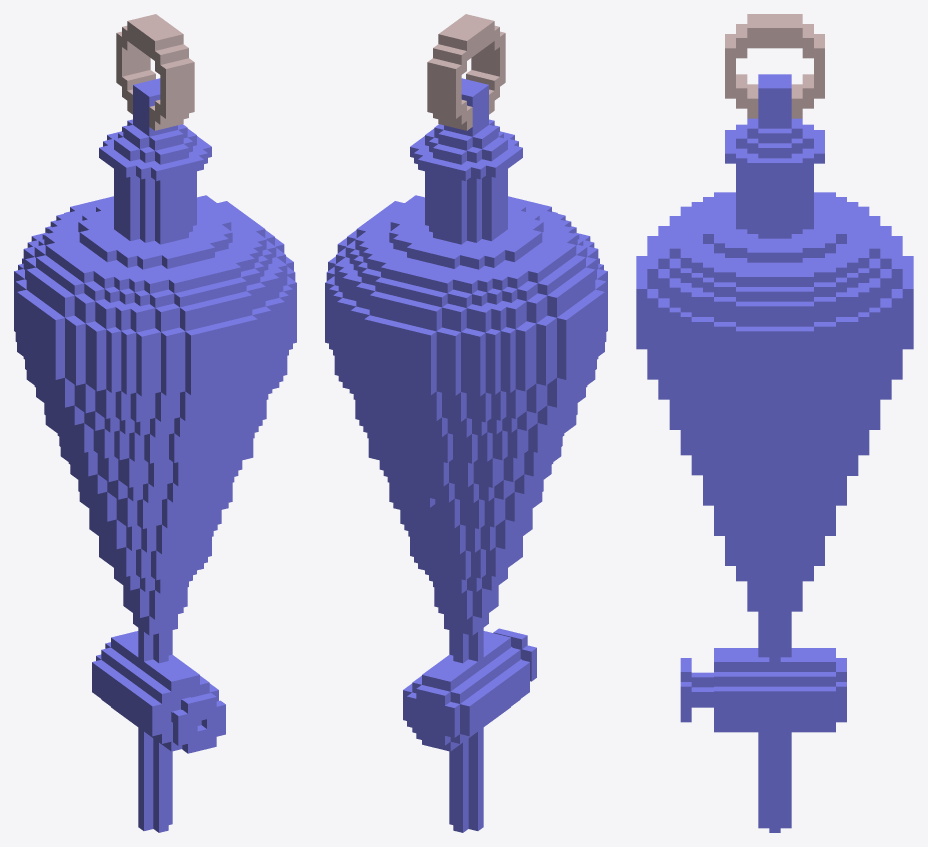
The model's file is Flask8-4-1.fbx.
3 renders of one model, left to right at view 1: azimuth 30°, elevation 25°; view 2: azimuth 150°, elevation 25°; view 3: azimuth 270°, elevation 25°, orthographic.
Parts seen in each view (by area): view 1: Flask8-4-1.001, Flask8-4-1.002, Flask8-4-1.003, Flask8-4-1.004; view 2: Flask8-4-1.001, Flask8-4-1.002, Flask8-4-1.003, Flask8-4-1.004; view 3: Flask8-4-1.001, Flask8-4-1.002, Flask8-4-1.003, Flask8-4-1.004.
Boxes of the visible parts, <box> form: Flask8-4-1.001: <box>14,14,296,366</box>; Flask8-4-1.002: <box>14,301,296,663</box>; Flask8-4-1.003: <box>97,636,225,832</box>; Flask8-4-1.004: <box>92,631,138,710</box>; Flask8-4-1.001: <box>325,14,607,366</box>; Flask8-4-1.002: <box>325,301,607,663</box>; Flask8-4-1.003: <box>409,628,536,832</box>; Flask8-4-1.004: <box>403,671,474,751</box>; Flask8-4-1.001: <box>636,14,913,361</box>; Flask8-4-1.002: <box>636,319,913,661</box>; Flask8-4-1.003: <box>680,648,824,832</box>; Flask8-4-1.004: <box>825,648,846,732</box>.
Bounding box in the file's own units: 2.5 × 8 × 2.5.
